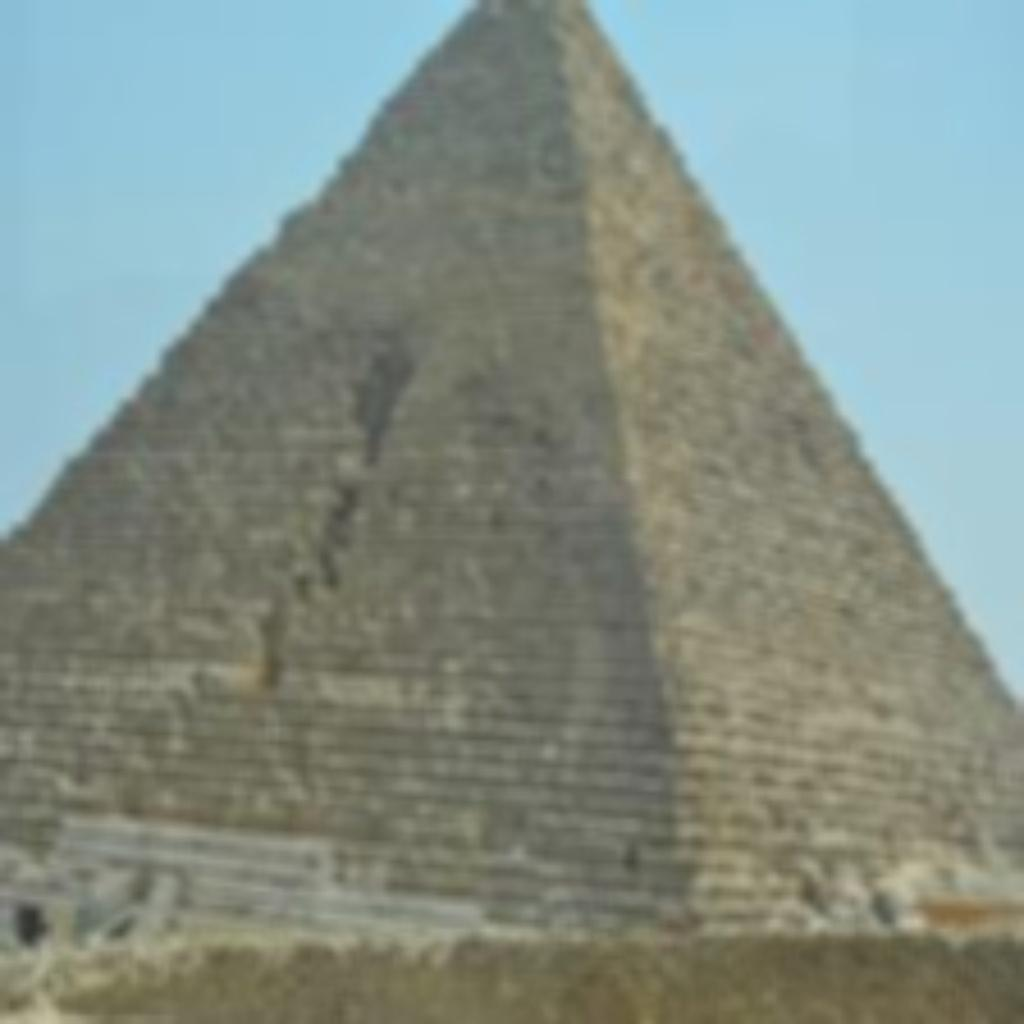Great Pyramids of Giza: (0, 0, 1019, 955)
